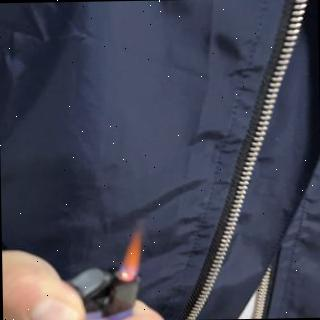fire: (119, 224, 145, 284)
